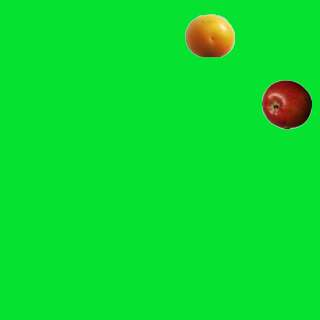Apple Braeburn: (261, 79, 311, 129)
Cherry Wax Yellow: (184, 10, 234, 60)
